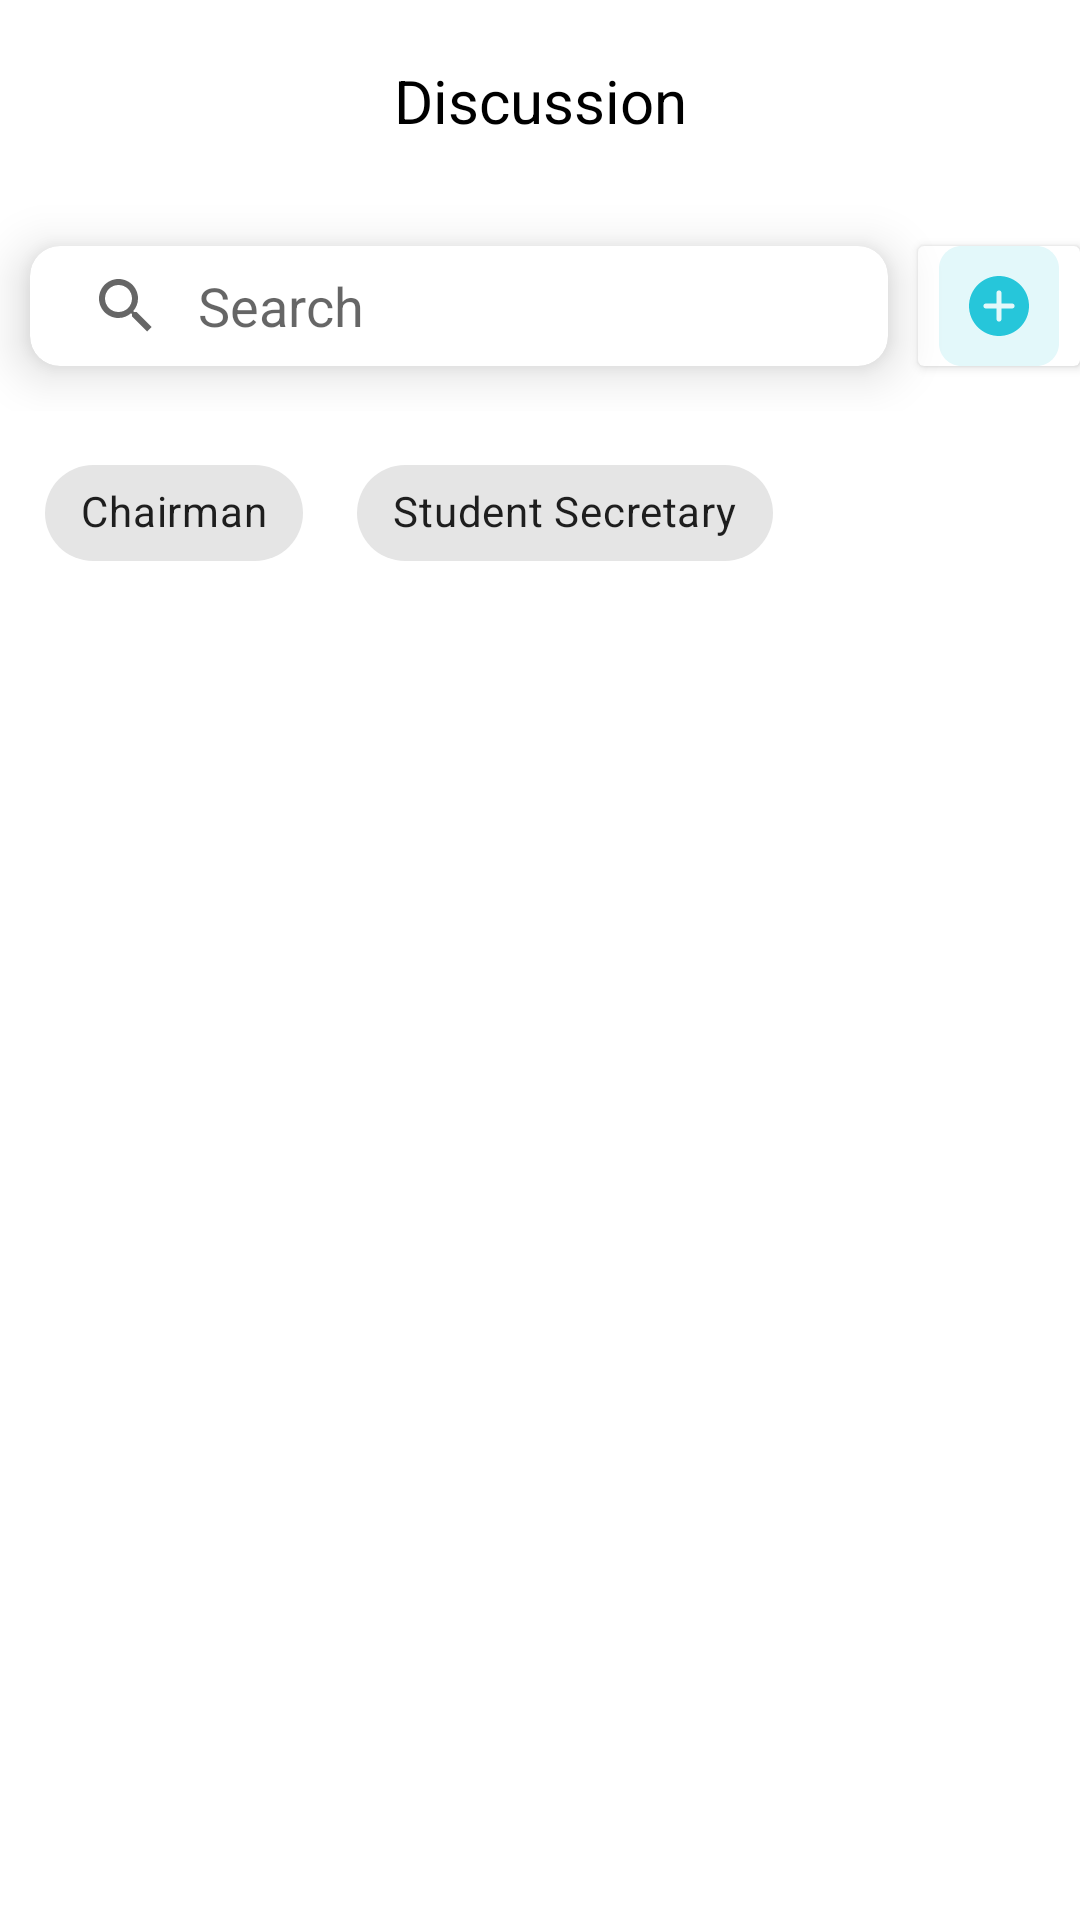

Point at icon controls on the screen. Image size 1080px x 1920px, points as [x,y].
plus: [999,306]
